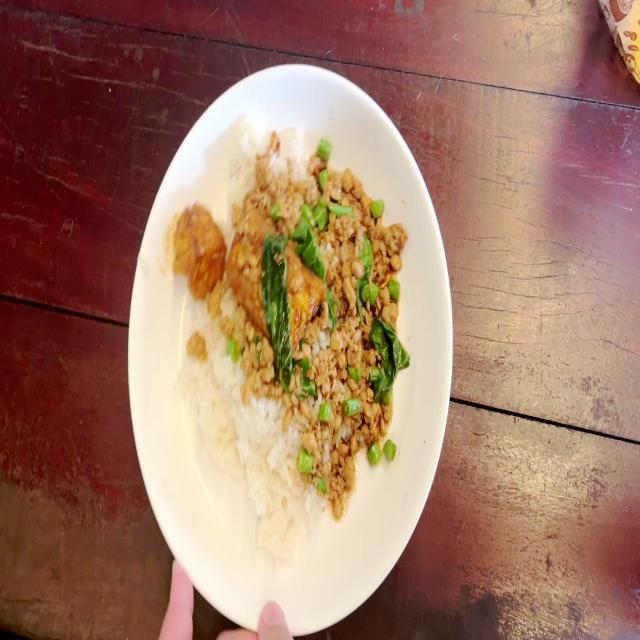fried_tofo: (228, 212, 319, 356), (175, 203, 222, 290)
minced_pork: (324, 245, 405, 466), (258, 128, 406, 248), (211, 290, 272, 404), (270, 348, 334, 455), (306, 422, 354, 516)
rice: (240, 391, 302, 547), (182, 321, 246, 454)
stir_fried_basil: (174, 119, 410, 564)
